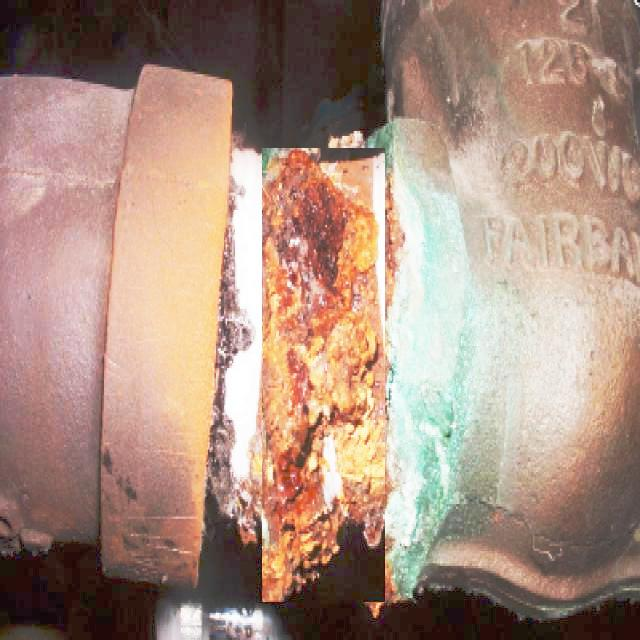Corrosion: (261, 150, 384, 602), (206, 256, 254, 518), (210, 431, 261, 546), (221, 176, 244, 292)
